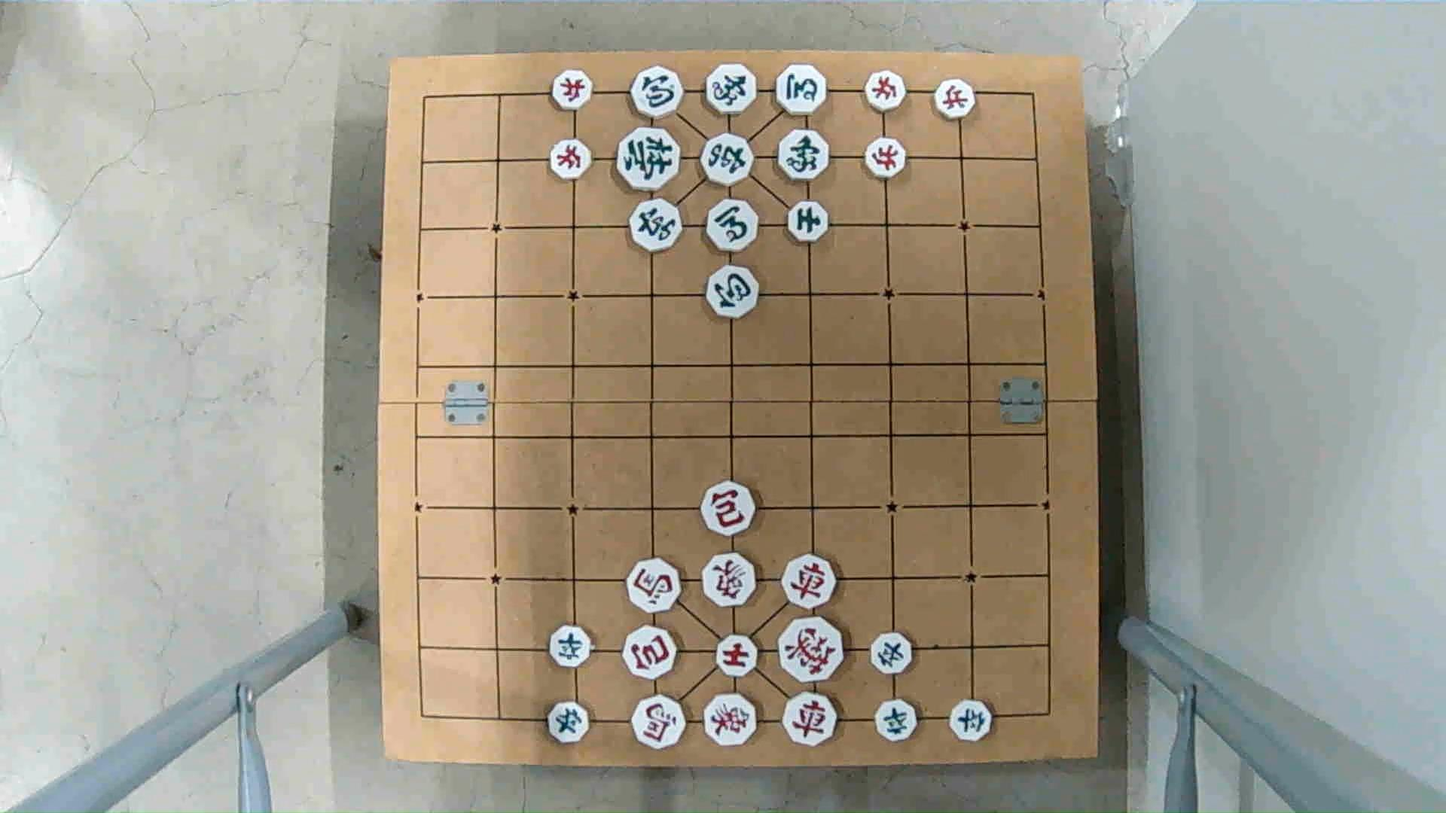cha_green: (627, 199, 680, 251), (699, 134, 754, 183)
cha_red: (784, 694, 843, 744), (783, 557, 842, 607)
jol_green: (545, 701, 593, 743), (868, 632, 914, 672), (549, 626, 596, 665), (872, 699, 917, 739), (951, 699, 993, 740)
jol_red: (863, 70, 906, 111), (862, 138, 905, 176), (548, 140, 590, 178), (935, 81, 978, 118), (551, 72, 593, 109)
ma_green: (773, 65, 829, 114), (706, 202, 758, 251)
ma_red: (627, 561, 685, 611), (631, 697, 686, 747)
po_green: (706, 269, 761, 319), (630, 70, 684, 117)
po_red: (622, 629, 678, 680), (701, 484, 757, 534)
sa_green: (787, 202, 830, 243)
sa_red: (715, 637, 760, 678)
sang_green: (702, 66, 756, 115), (778, 130, 831, 178)
sang_red: (703, 693, 761, 746), (703, 555, 759, 607)
wang_green: (613, 128, 682, 188)
wang_red: (776, 620, 847, 679)
